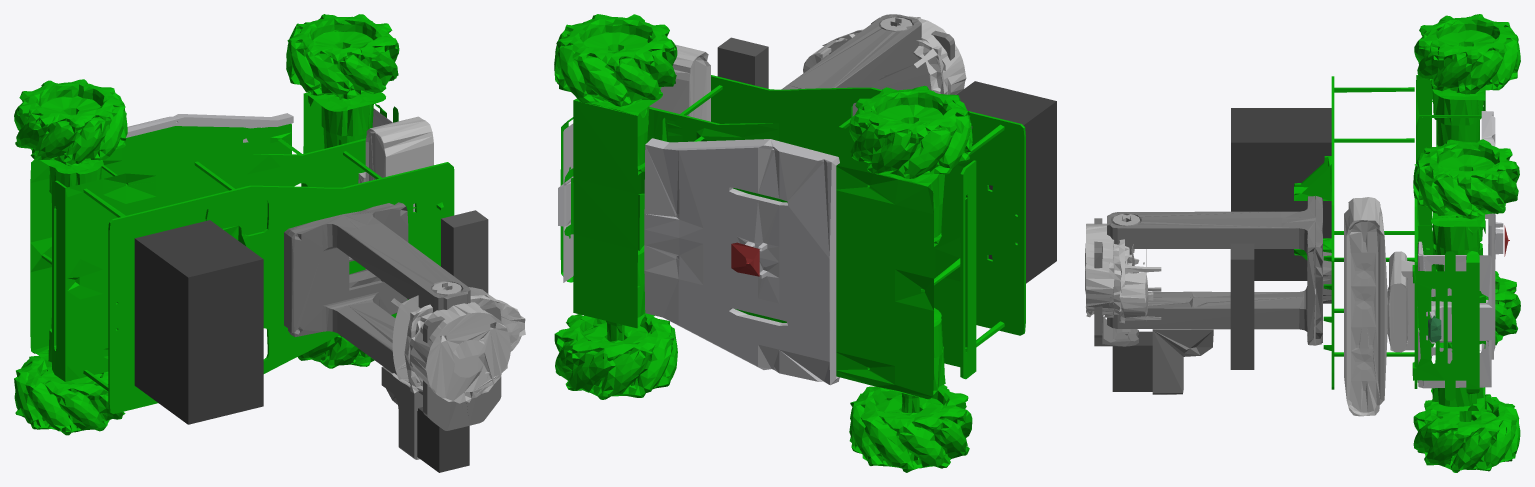
Rendered from x3_robot.glb.
3 views of the same model, side by side, from view 1: azimuth 30°, elevation 25°; view 2: azimuth 150°, elevation 25°; view 3: azimuth 270°, elevation 25° (orthographic). The views are drawn at different scales.
Parts seen in each view (by area): view 1: body, tilt; view 2: body, tilt; view 3: body, tilt.
Boxes of the visible parts, x1,y1,x2,y2 form: body: (14, 14, 488, 472); tilt: (391, 282, 525, 430); body: (554, 14, 1056, 472); tilt: (803, 16, 966, 116); body: (1107, 14, 1520, 472); tilt: (1085, 216, 1161, 346).
Bounding box in the file's own units: 0.3044 × 0.2445 × 0.3251.
